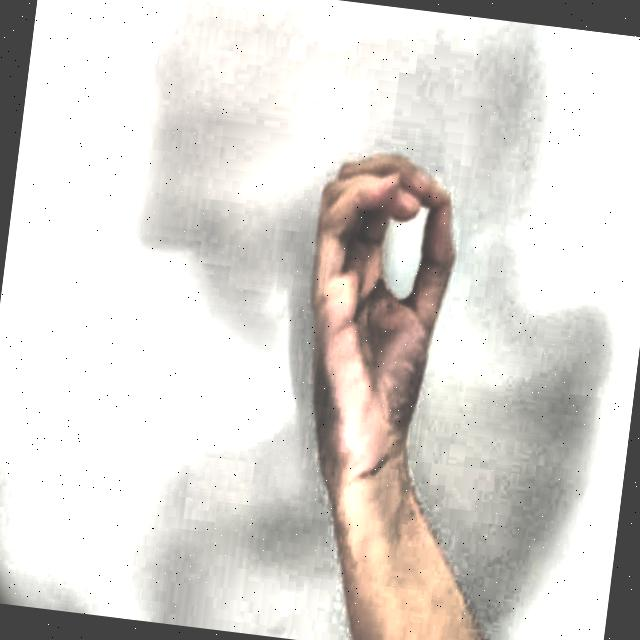O: (253, 122, 502, 518)
